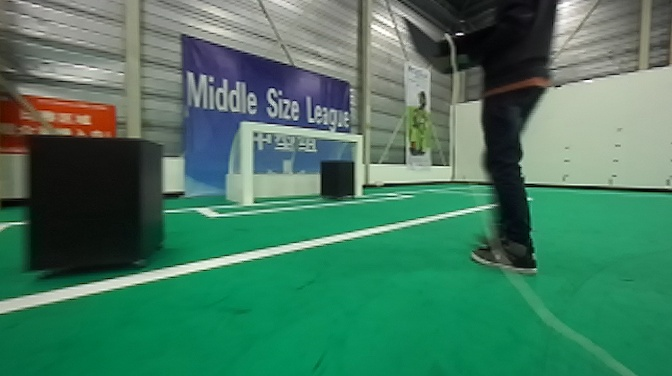goalpost: (243, 119, 255, 207), (351, 138, 364, 194)
human: (409, 1, 550, 277)
